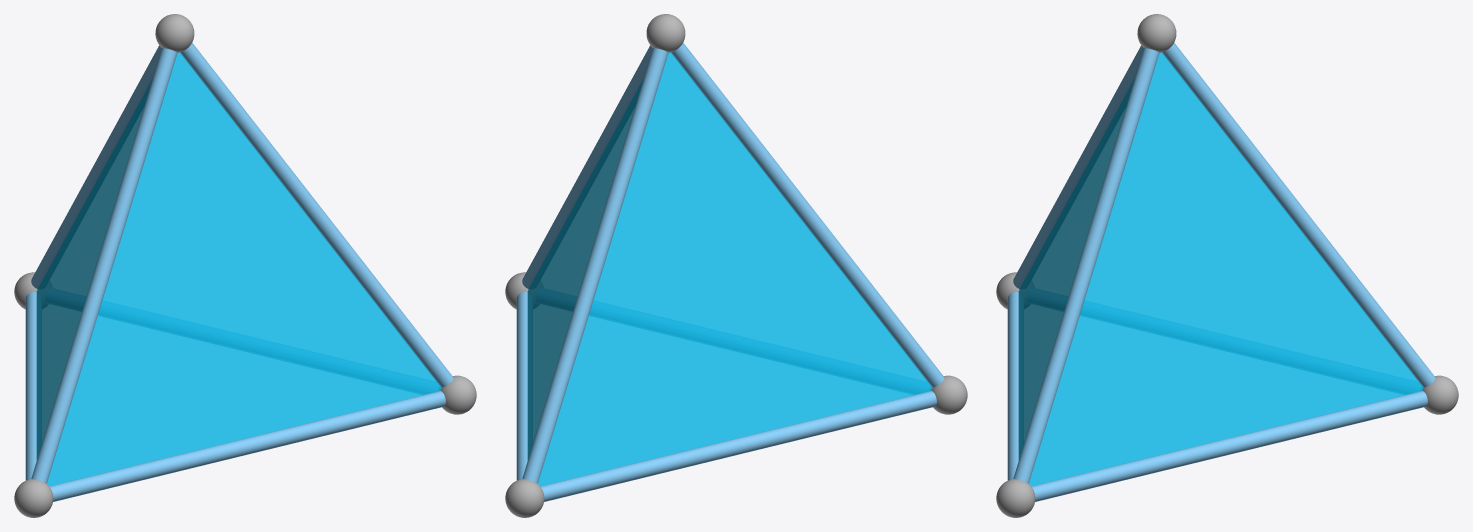
The model's file is tetrahedron.glb.
3 renders of one model, left to right at view 1: azimuth 30°, elevation 25°; view 2: azimuth 150°, elevation 25°; view 3: azimuth 270°, elevation 25°, orthographic.
Bounding box in the file's own units: 8.1 × 6.72 × 7.1.
